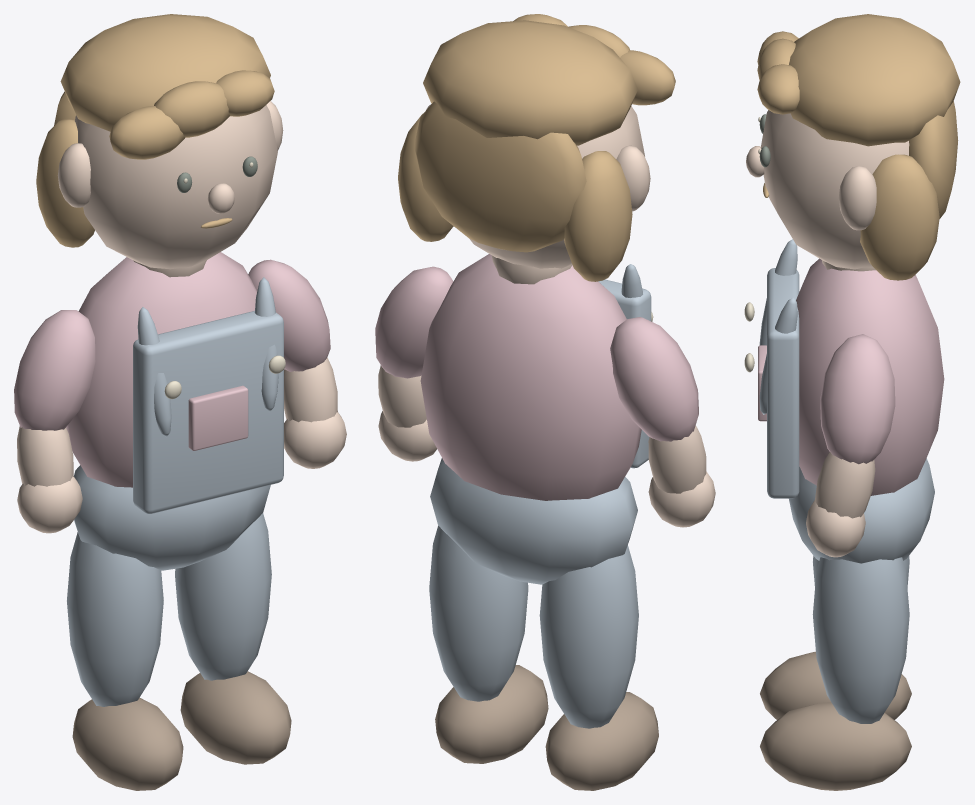
File: pearl-idle.glb
3 renders of one model, left to right at view 1: azimuth 30°, elevation 25°; view 2: azimuth 150°, elevation 25°; view 3: azimuth 270°, elevation 25°, orthographic. The views are drawn at different scales.
Visible parts, largest first — view 1: Overall bib.009, Head.018, Padded shirt.018, Hair crown.018, Trouser leg.036, Trouser leg.037, Soft trouser seat.018, Rounded boot.037, Rounded boot.036, Shirt sleeve.036, Shirt sleeve.037, Rounded bob.006 (+12 smaller); view 2: Padded shirt.018, Hair crown.018, Hair back.018, Soft trouser seat.018, Trouser leg.036, Trouser leg.037, Shirt sleeve.036, Rounded boot.036, Rounded boot.037, Rounded bob.006, Shirt sleeve.037, Head.018 (+10 smaller); view 3: Padded shirt.018, Hair crown.018, Trouser leg.037, Head.018, Rounded boot.037, Shirt sleeve.037, Rounded bob.007, Overall bib.009, Soft trouser seat.018, Rounded boot.036, Hair back.018, Forearm.037 (+8 smaller).
Part boxes in pixels (x1,y1,x2,y2): Overall bib.009: (133,311,283,513); Head.018: (75,105,277,269); Padded shirt.018: (66,252,256,487); Hair crown.018: (60,14,270,131); Trouser leg.036: (67,532,163,706); Trouser leg.037: (175,513,271,680); Soft trouser seat.018: (73,465,270,570); Rounded boot.037: (180,671,291,764); Rounded boot.036: (72,697,183,790); Shirt sleeve.036: (14,310,95,430); Shirt sleeve.037: (248,259,330,371); Rounded bob.006: (36,119,94,247); Padded shirt.018: (420,254,641,500); Hair crown.018: (423,20,637,145); Hair back.018: (414,101,586,252); Soft trouser seat.018: (430,458,637,584); Trouser leg.036: (539,545,638,728); Trouser leg.037: (429,525,528,701); Shirt sleeve.036: (610,317,698,441); Rounded boot.036: (545,692,658,790); Rounded boot.037: (435,665,548,763); Rounded bob.006: (564,151,632,281); Shirt sleeve.037: (375,266,453,378); Head.018: (469,106,644,268); Padded shirt.018: (796,258,944,495); Hair crown.018: (789,14,960,146); Trouser leg.037: (812,557,909,723); Head.018: (760,110,909,269); Rounded boot.037: (760,702,911,790); Shirt sleeve.037: (820,334,895,464); Rounded bob.007: (860,154,939,280); Overall bib.009: (767,268,799,498); Soft trouser seat.018: (789,458,934,563); Rounded boot.036: (760,651,911,719); Hair back.018: (909,101,958,218); Forearm.037: (814,452,875,518).
Size of the model in its own units: 0.5803 by 1.25 by 0.337.
